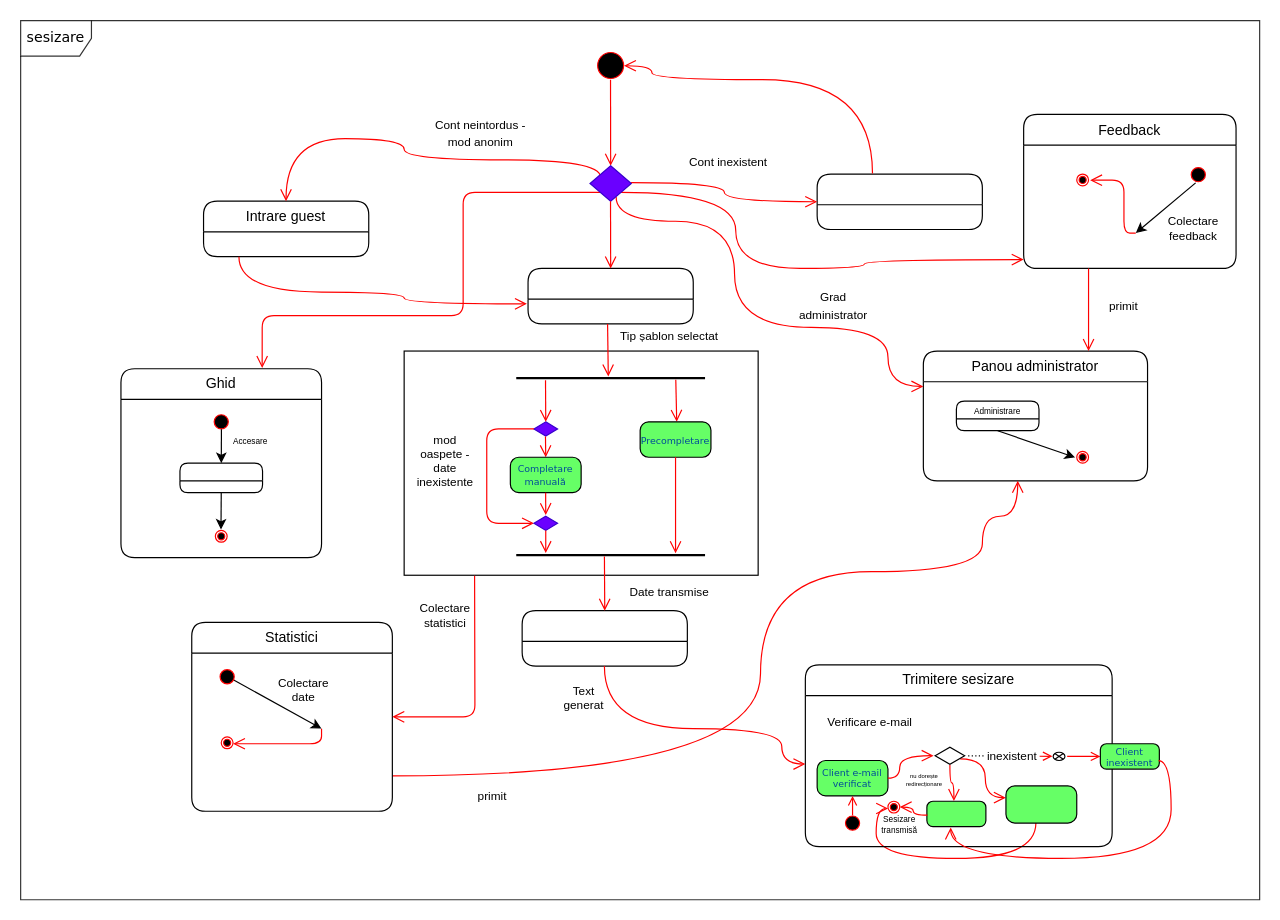
Some shapes in this 1280 by 920 pixel diagram are drawn without their labels. The shapes that lost their labels are listed below. From the top down, each one's centre as x and y in pixels, then its label:
At (899,201): "Creare cont".
At (610,295): "Selectare tip șablon".
At (221,477): "Vizualizare".
At (604,637): "Generare text".
At (956,813): "Copiere brută text".
At (1041,804): "Pornire client și inserare conținut text".
